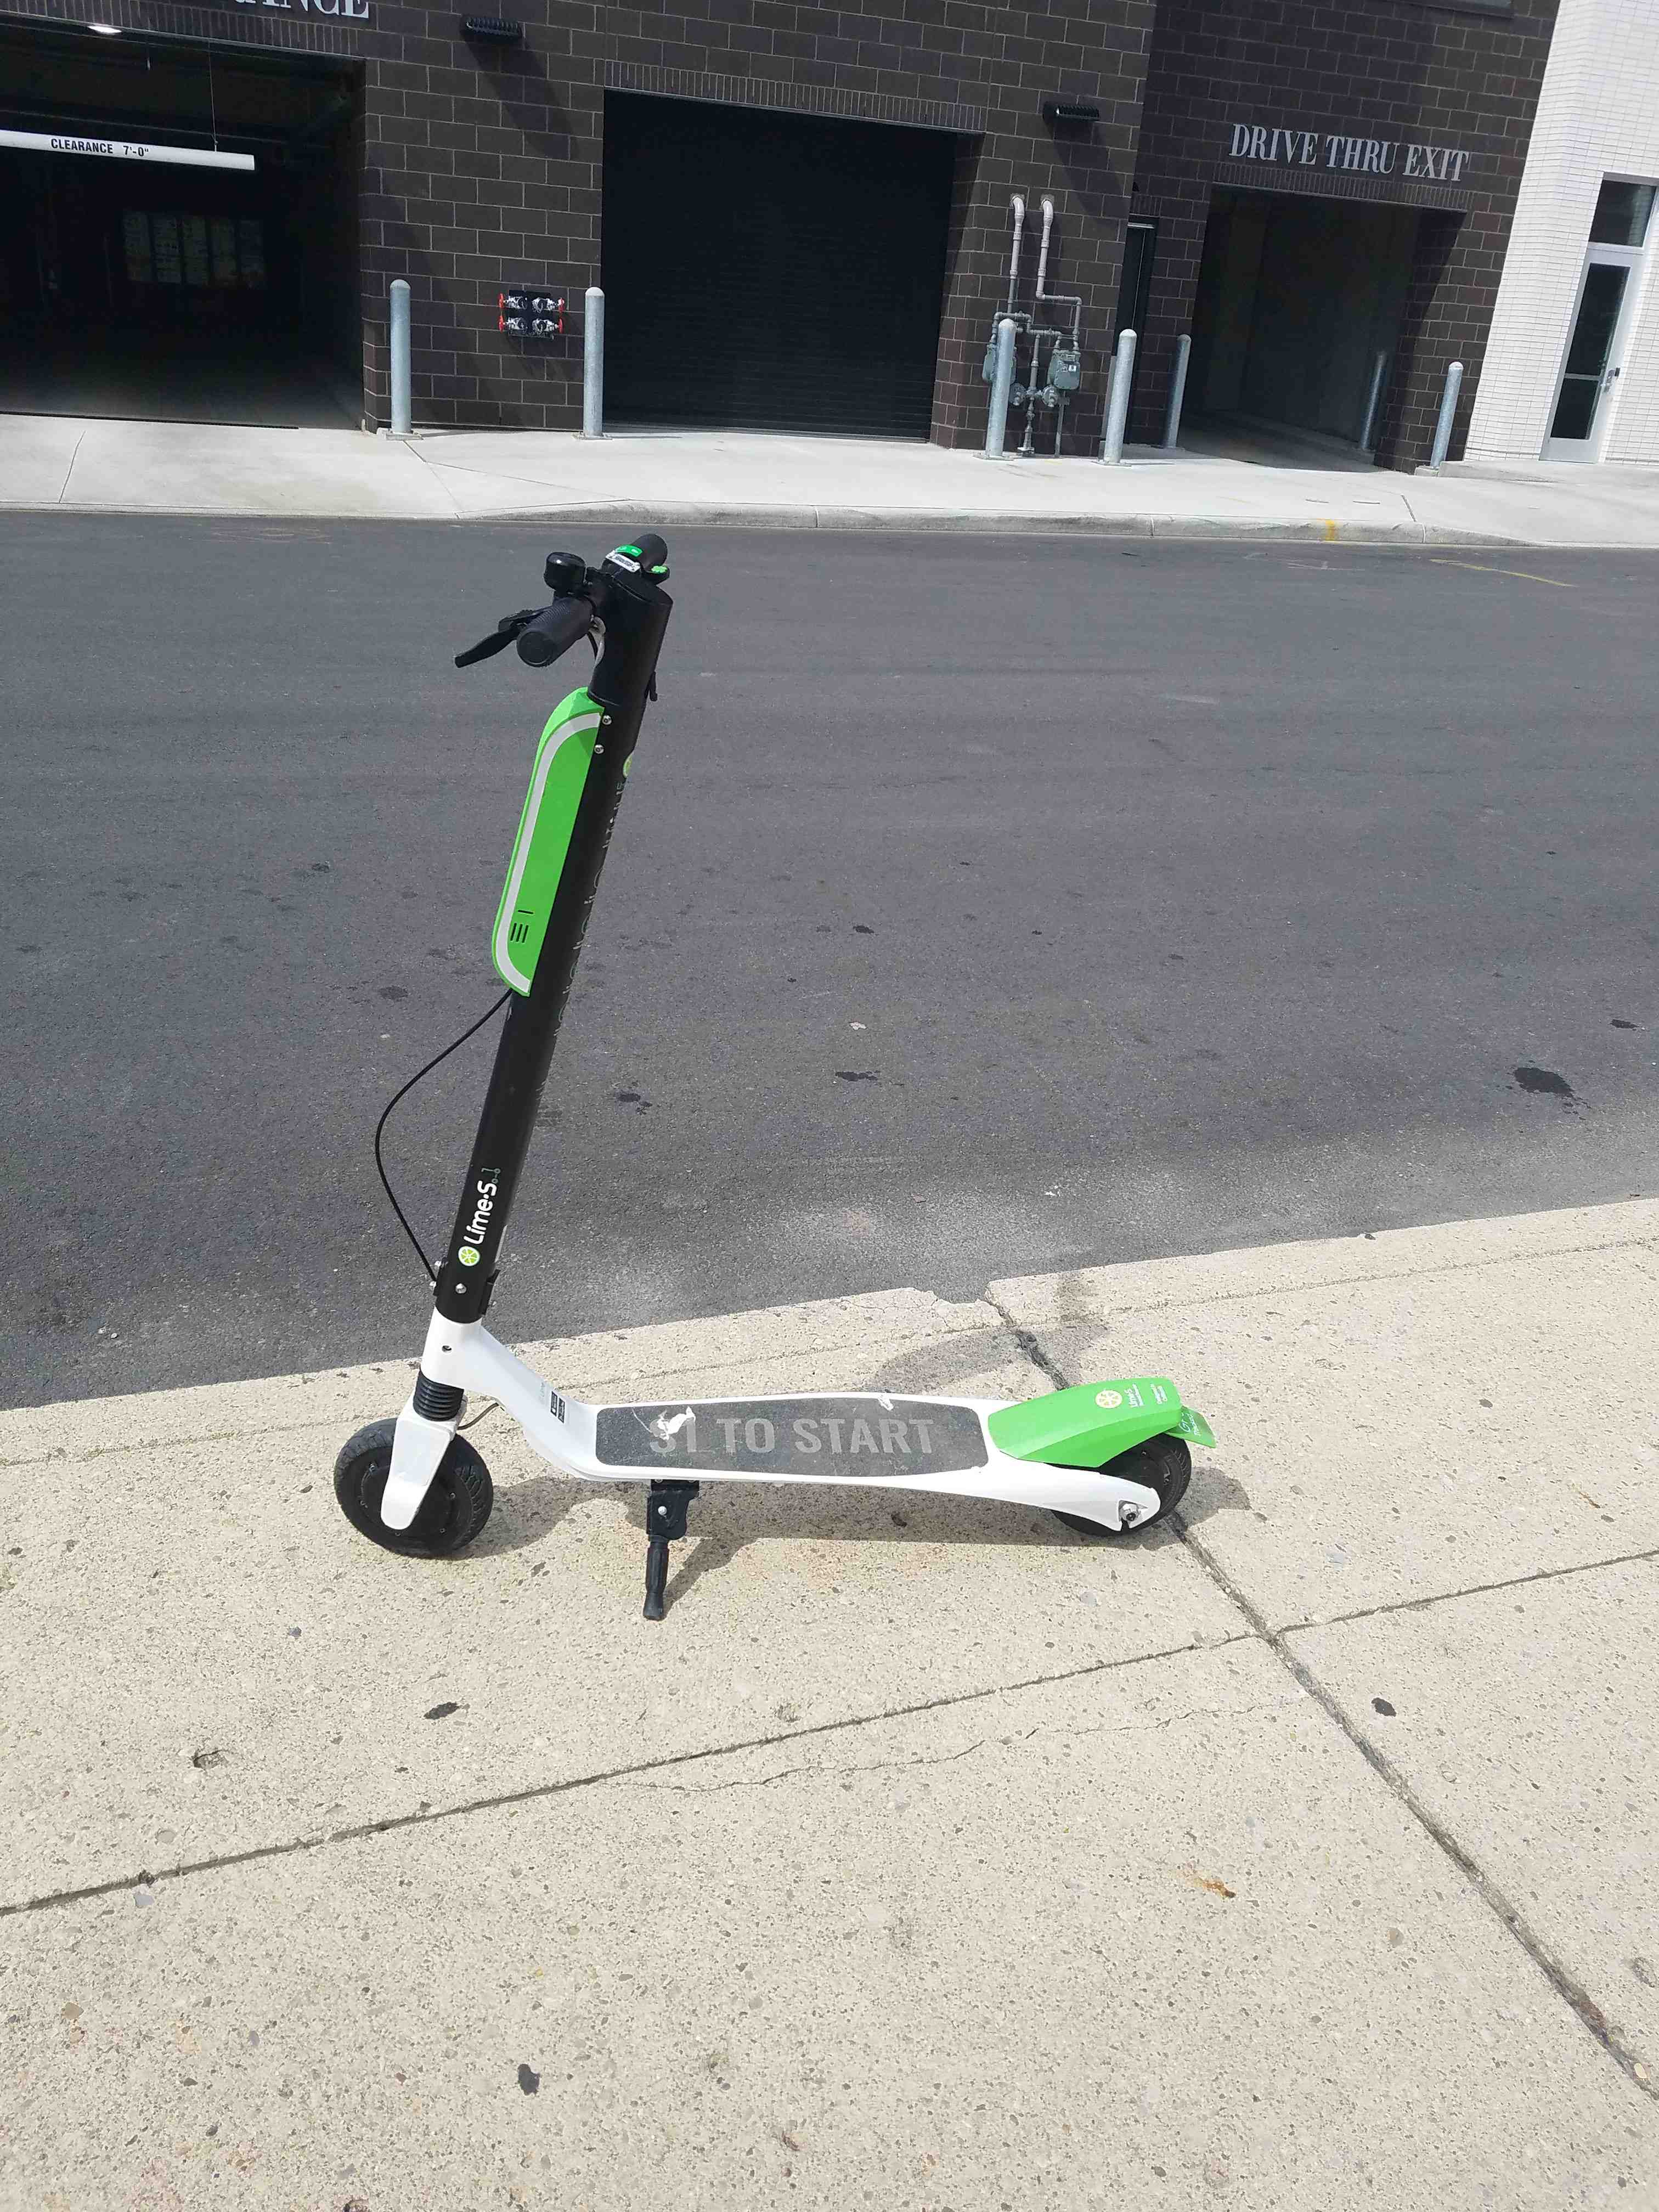scooter: (331, 474, 1236, 1613)
